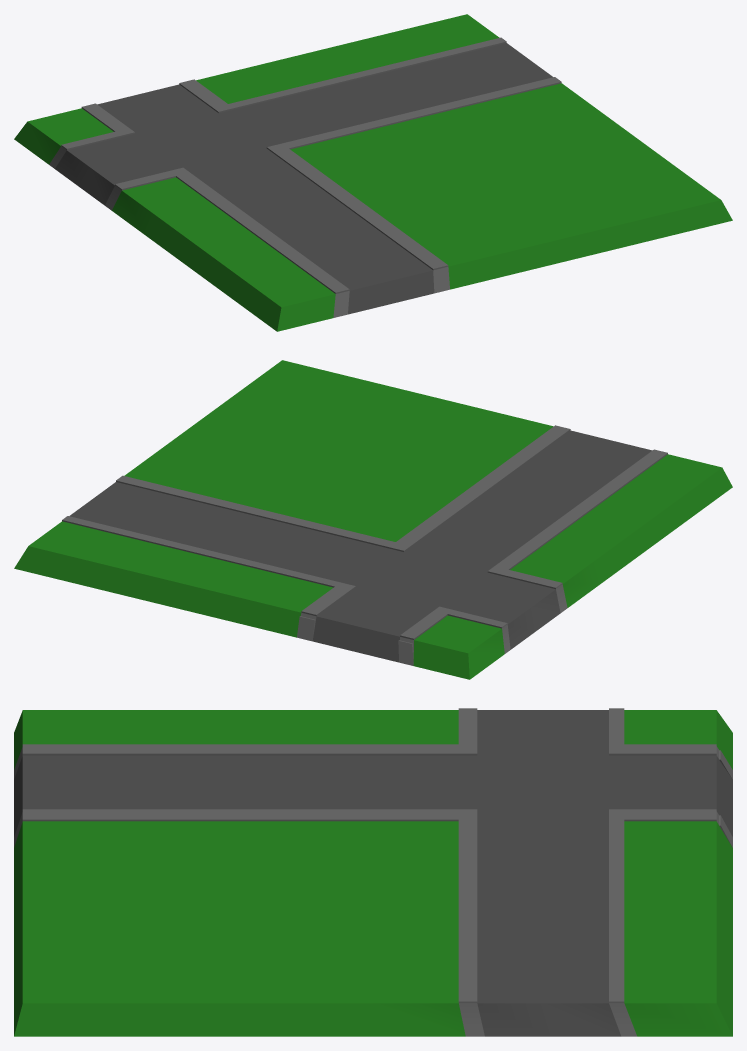
File: franceground.fbx
The picture shows the model from 3 angles, top to bottom: view 1: azimuth 30°, elevation 25°; view 2: azimuth 150°, elevation 25°; view 3: azimuth 270°, elevation 25°; orthographic projection. The views are drawn at different scales.
Visible parts, largest first — view 1: Plane.003; view 2: Plane.003; view 3: Plane.003.
Boxes of the visible parts, bbox=[...] form: Plane.003: bbox=[14, 14, 732, 331]; Plane.003: bbox=[14, 360, 732, 679]; Plane.003: bbox=[14, 708, 732, 1036].
Size of the model in its own units: 2279 by 103 by 2279.
